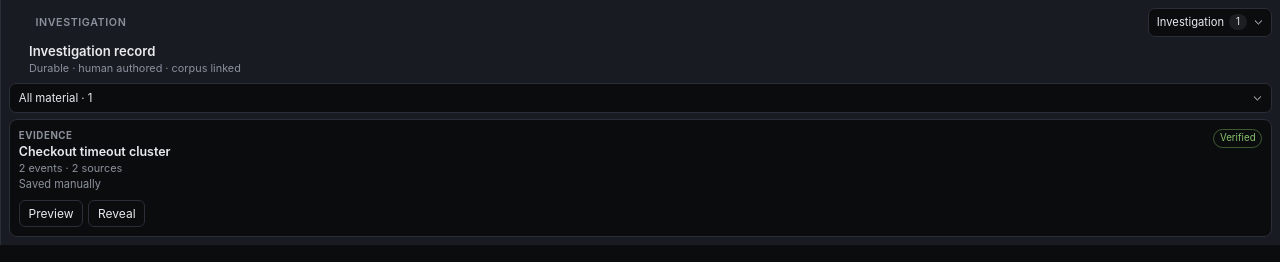
Scenario: EvidencePanel › explains an empty material filter instead of leaving a blank rail
Select "Findings · 0" in the dropdown named "Show investigation material" at (640, 98), box [9,83,1272,113]
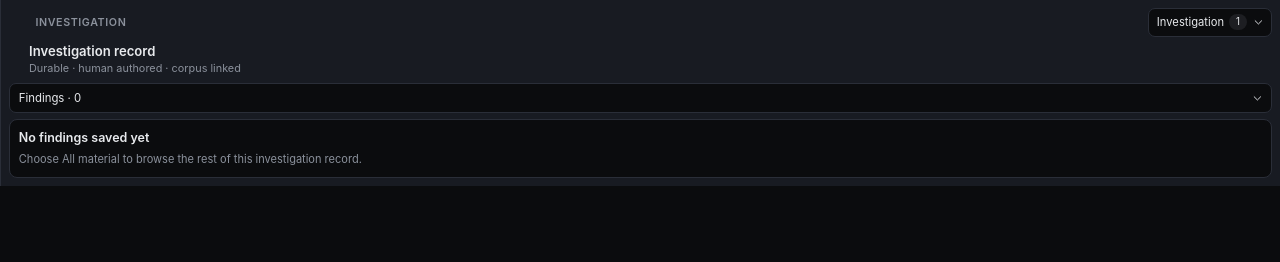
expect the text "No findings saved yet" is shown: met, box [19,130,149,145]
expect the text "Choose All material" is shown: met, box [19,152,362,166]
